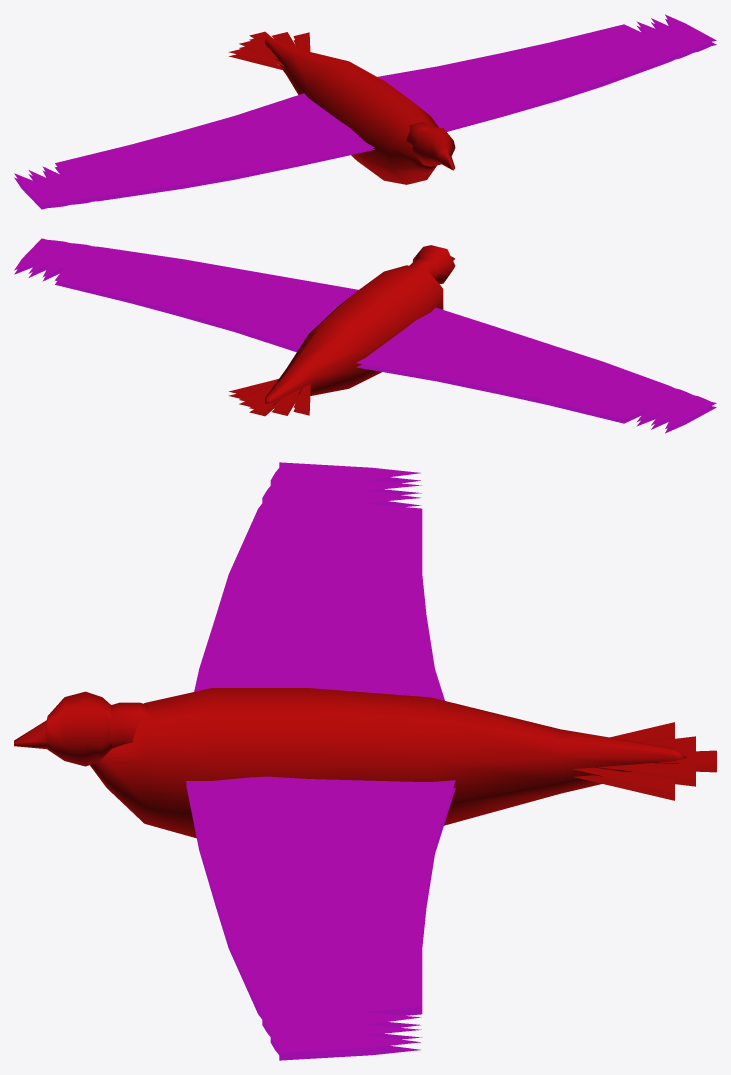
The model's file is raven.glb.
The picture shows the model from 3 angles, top to bottom: view 1: azimuth 30°, elevation 25°; view 2: azimuth 150°, elevation 25°; view 3: azimuth 270°, elevation 25°; orthographic projection. The views are drawn at different scales.
Parts seen in each view (by area): view 1: bird; view 2: bird; view 3: bird.
Boxes of the visible parts, left/top/right/bottom form: bird: left=14, top=14, right=716, bottom=209; bird: left=14, top=238, right=716, bottom=433; bird: left=14, top=462, right=716, bottom=1060.
Bounding box in the file's own units: 1.3 × 0.1328 × 0.6523.
